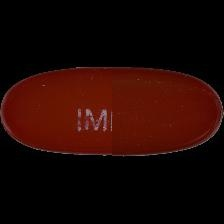68151-2870: (0, 0, 224, 224)
